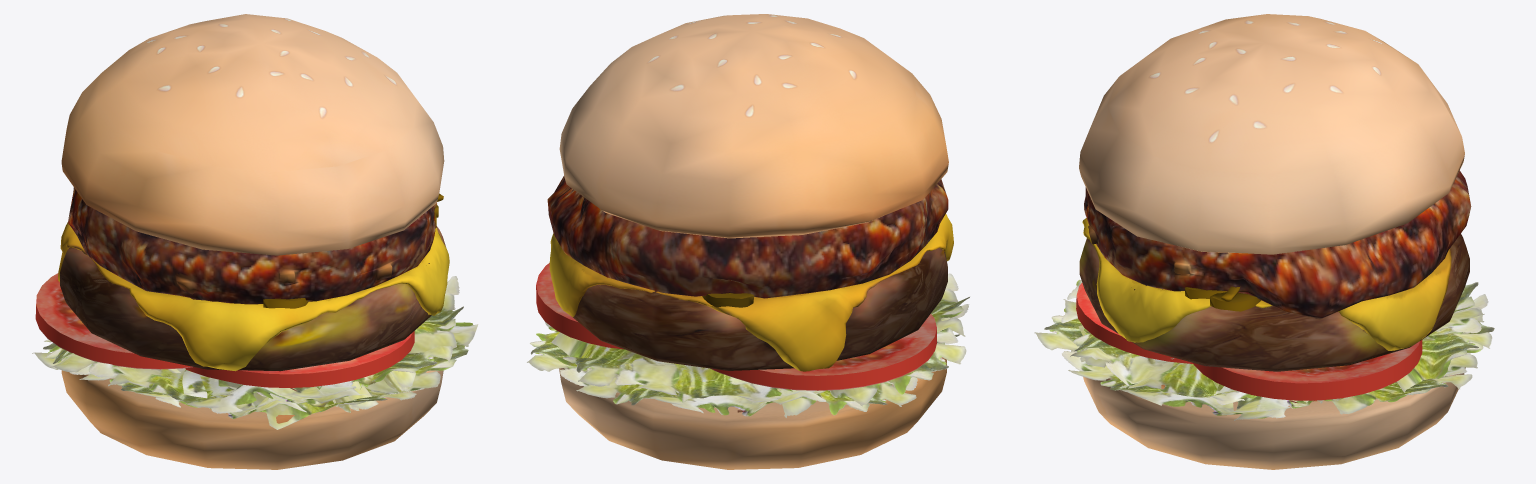
File: J-BURGER_240223_01.glb
3 views of the same model, side by side, from view 1: azimuth 30°, elevation 25°; view 2: azimuth 150°, elevation 25°; view 3: azimuth 270°, elevation 25° (orthographic).
Visible parts, largest first — view 1: Hamburger, Hamburger_sara; view 2: Hamburger, Hamburger_sara; view 3: Hamburger, Hamburger_sara.
Boxes of the visible parts, left/top/right/bottom form: Hamburger: left=35, top=14, right=449, bottom=469; Hamburger_sara: left=32, top=276, right=478, bottom=429; Hamburger: left=536, top=14, right=953, bottom=469; Hamburger_sara: left=527, top=273, right=969, bottom=417; Hamburger: left=1076, top=14, right=1471, bottom=469; Hamburger_sara: left=1034, top=279, right=1494, bottom=420.
Bounding box in the file's own units: 0.1019 × 0.0841 × 0.1043.
2 materials, 2 textured.
